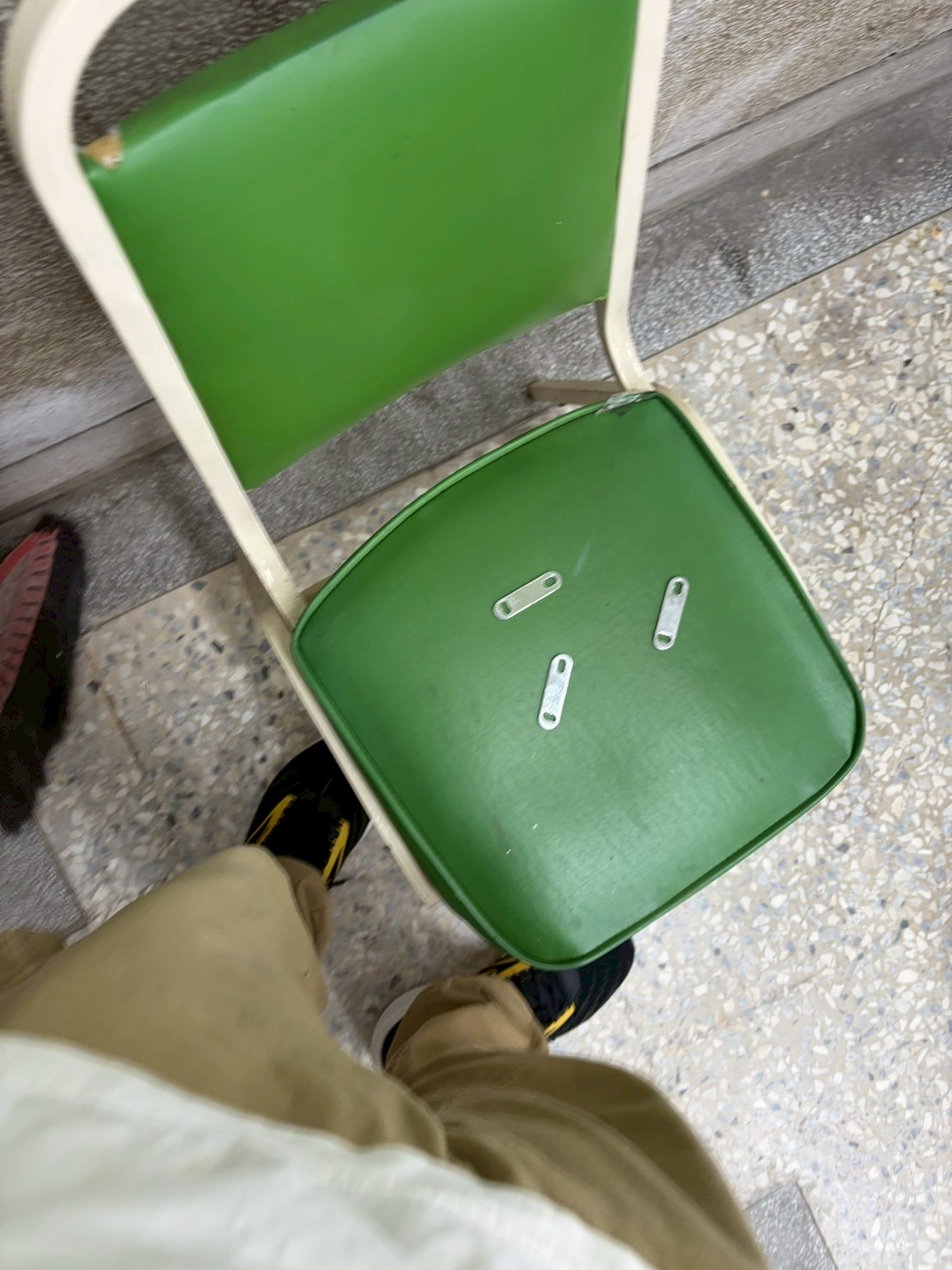Fe: (478, 563, 565, 622), (648, 563, 689, 652), (536, 645, 575, 733)
